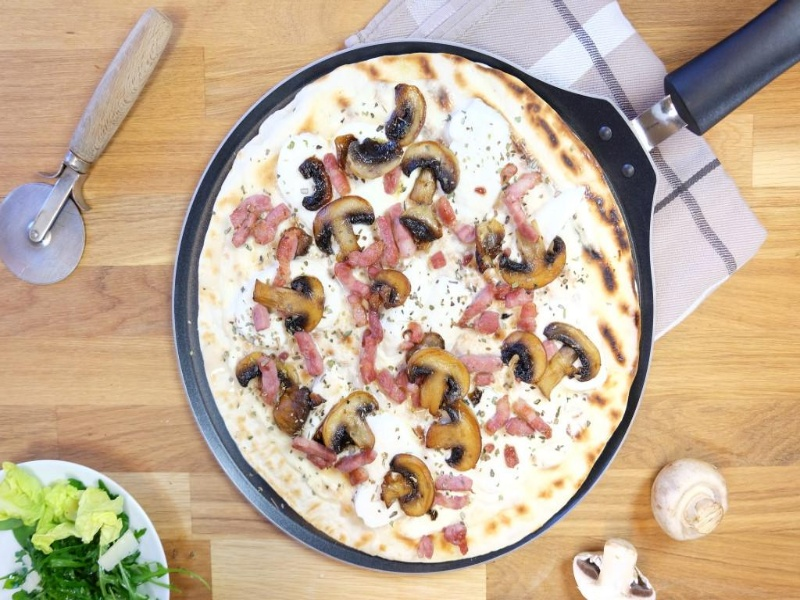champignon: (400, 342, 480, 425), (243, 268, 335, 340), (536, 315, 607, 404), (397, 132, 473, 211), (488, 227, 573, 295), (421, 406, 499, 476), (381, 453, 455, 523), (307, 192, 377, 263), (319, 392, 391, 461), (488, 324, 552, 387), (335, 130, 409, 178), (382, 82, 431, 146), (369, 266, 417, 315), (295, 156, 335, 211)
